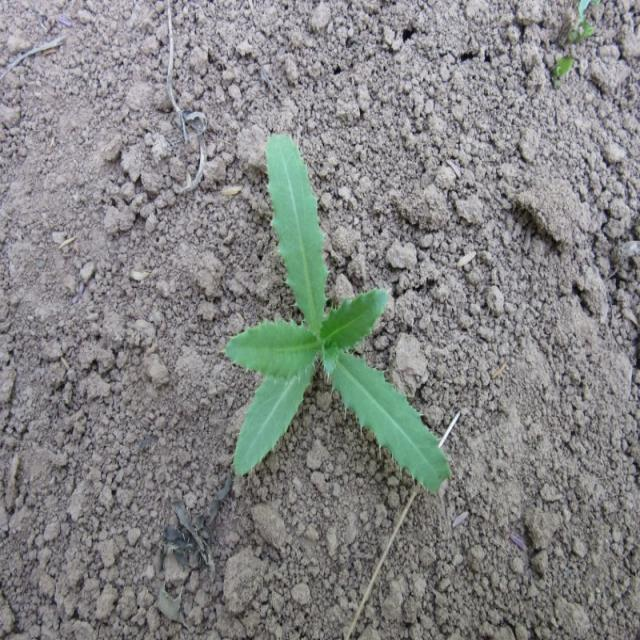cs: (219, 127, 453, 499)
